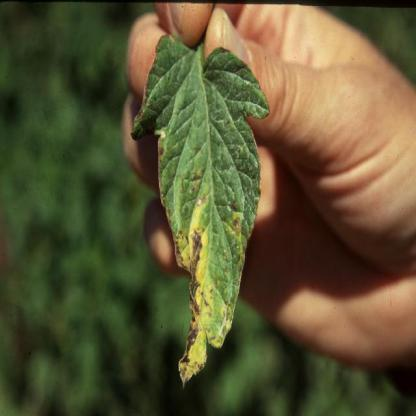Tomato leaf bacterial spot: (130, 23, 273, 393)
